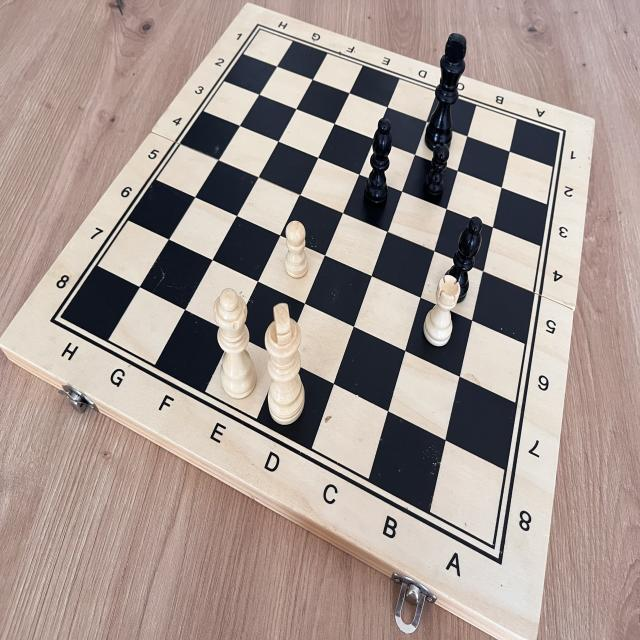black-bishop: (437, 214, 489, 310), (358, 112, 399, 224)
black-king: (424, 22, 473, 156)
black-pawn: (418, 135, 454, 205)
white-king: (258, 296, 310, 430)
white-pawn: (281, 216, 312, 287)
white-queen: (204, 282, 264, 409)
white-rook: (414, 264, 466, 356)
